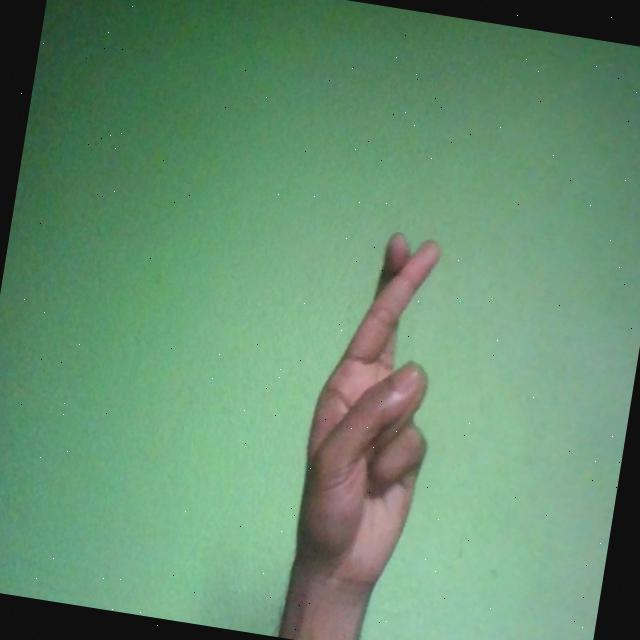Ok: (286, 222, 460, 602)
